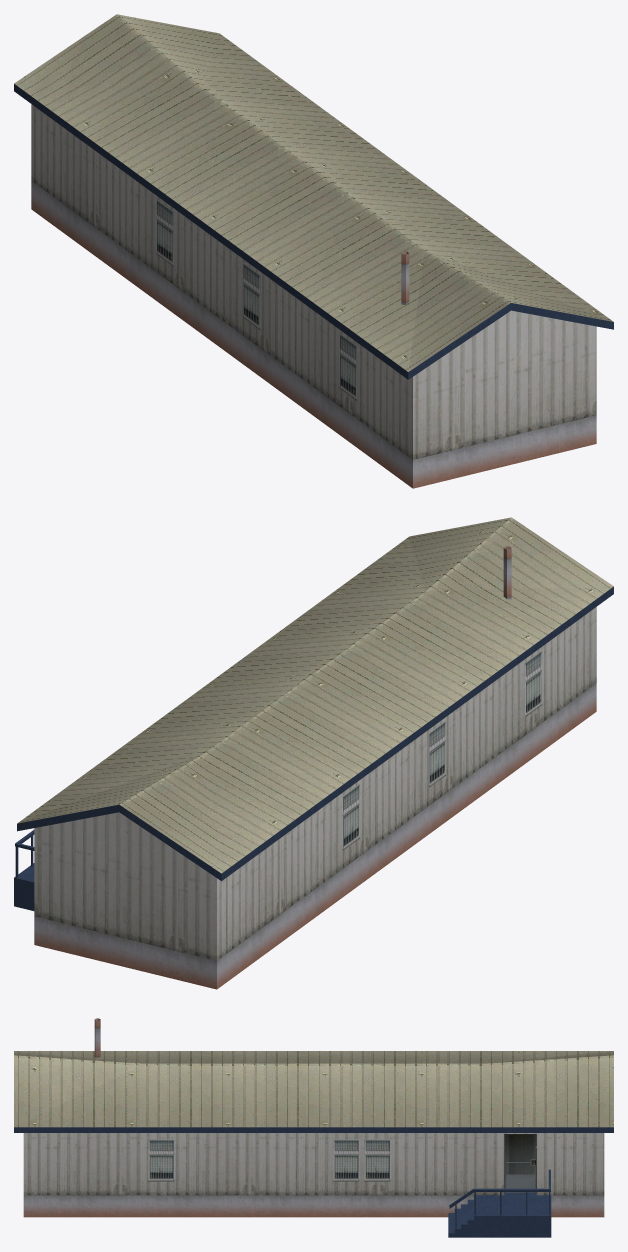
The model's file is des_shed3_01.obj.
The picture shows the model from 3 angles, top to bottom: view 1: azimuth 30°, elevation 25°; view 2: azimuth 150°, elevation 25°; view 3: azimuth 270°, elevation 25°; orthographic projection. The views are drawn at different scales.
Visible parts, largest first — view 1: des_shed3_01; view 2: des_shed3_01; view 3: des_shed3_01.
Part boxes in pixels (x1=…): des_shed3_01: x1=14, y1=14, x2=613, y2=488; des_shed3_01: x1=14, y1=517, x2=613, y2=989; des_shed3_01: x1=14, y1=1018, x2=613, y2=1237.
Bounding box in the file's own units: 6.8 × 4.95 × 18.6.
6 materials, 6 textured.
